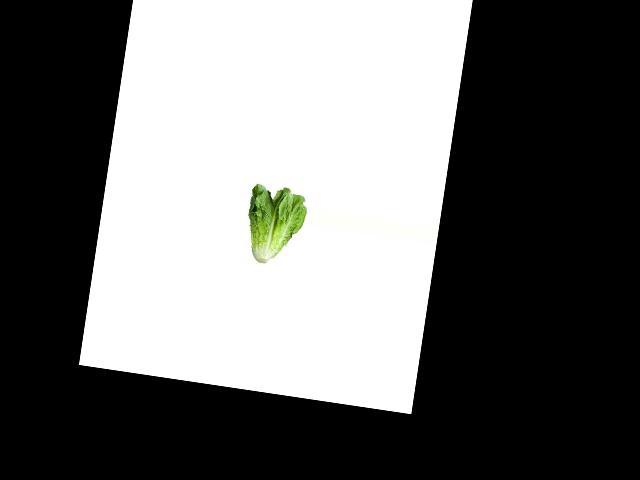lettuce: (239, 182, 309, 270)
